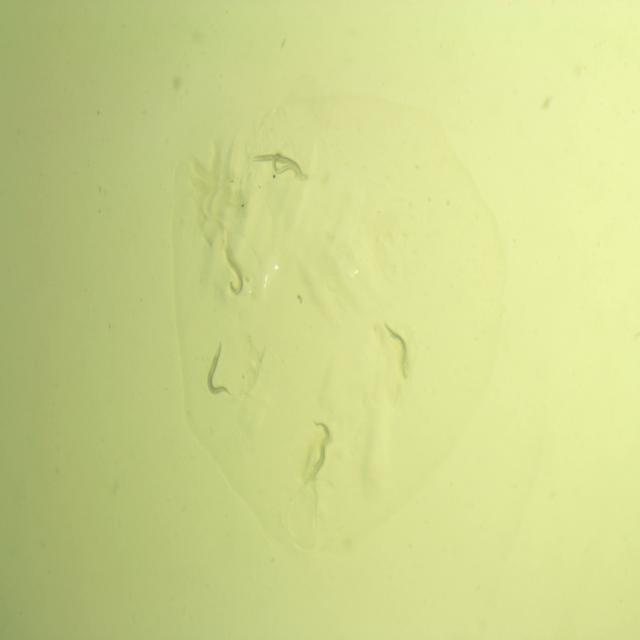worm: (303, 417, 333, 489), (382, 318, 414, 382), (204, 336, 234, 402), (249, 152, 309, 181), (222, 243, 248, 299), (270, 150, 306, 182)
